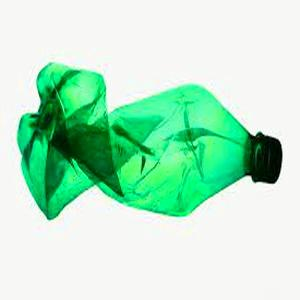Plastic: (15, 60, 283, 220)
